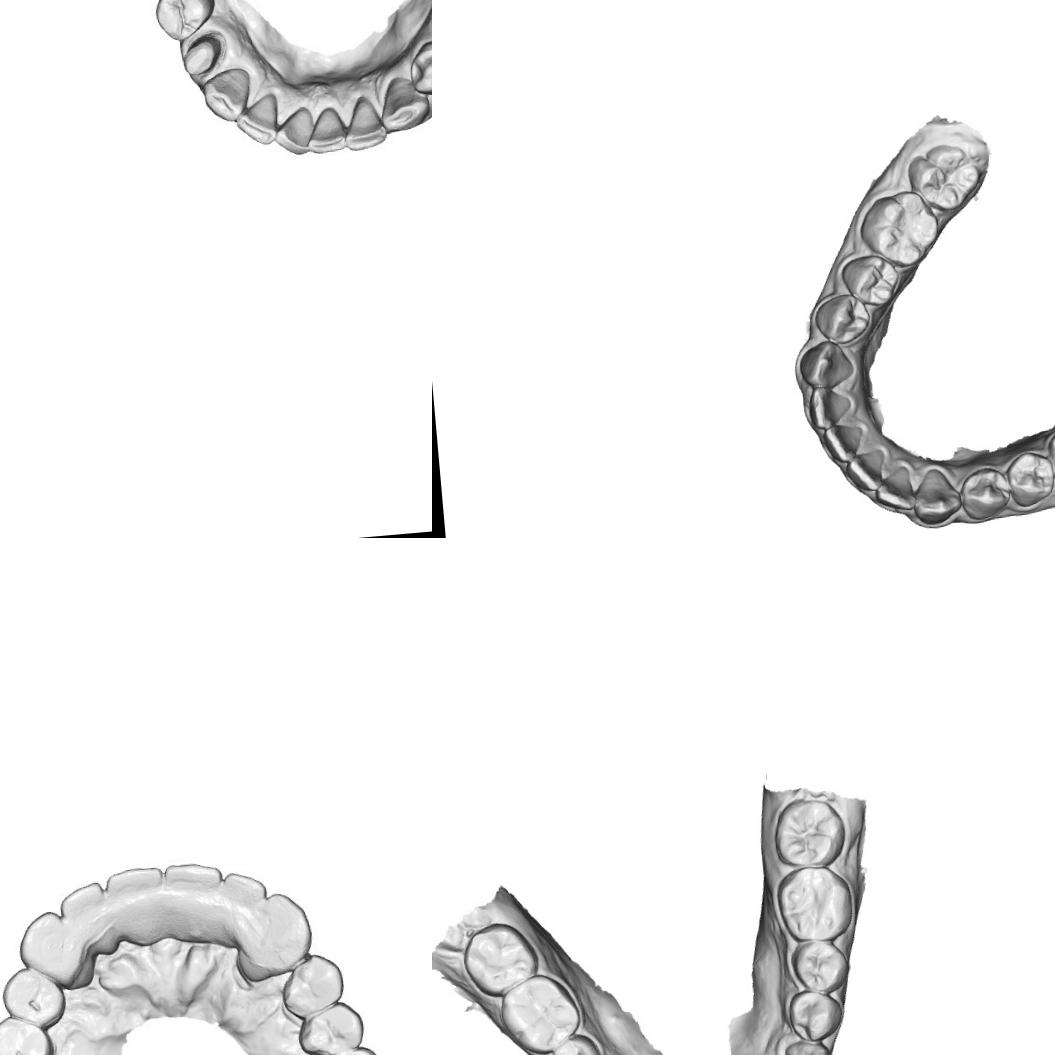canine: (245, 888, 316, 974), (16, 908, 86, 986), (194, 66, 255, 126), (909, 465, 963, 526), (797, 338, 856, 392), (379, 76, 428, 130), (782, 1036, 834, 1055)
crown: (181, 36, 218, 78)
incisor: (160, 860, 229, 928), (106, 866, 173, 936), (60, 880, 112, 942), (805, 382, 855, 432), (220, 870, 266, 922), (237, 94, 284, 141), (872, 464, 916, 513), (842, 448, 888, 494), (346, 94, 382, 150), (308, 106, 350, 154), (278, 106, 322, 151), (820, 422, 866, 464)
molar: (496, 970, 583, 1055), (856, 187, 941, 270), (772, 861, 856, 944), (460, 918, 541, 1000), (904, 140, 984, 214), (769, 795, 848, 869)
premolar: (291, 995, 365, 1055), (280, 952, 346, 1014), (0, 970, 65, 1029), (838, 251, 902, 309), (789, 937, 851, 996), (812, 290, 872, 346), (786, 985, 844, 1042), (958, 464, 1013, 523), (1004, 449, 1055, 508), (149, 0, 213, 42), (0, 1017, 54, 1055), (406, 38, 432, 103), (545, 1030, 603, 1055)
